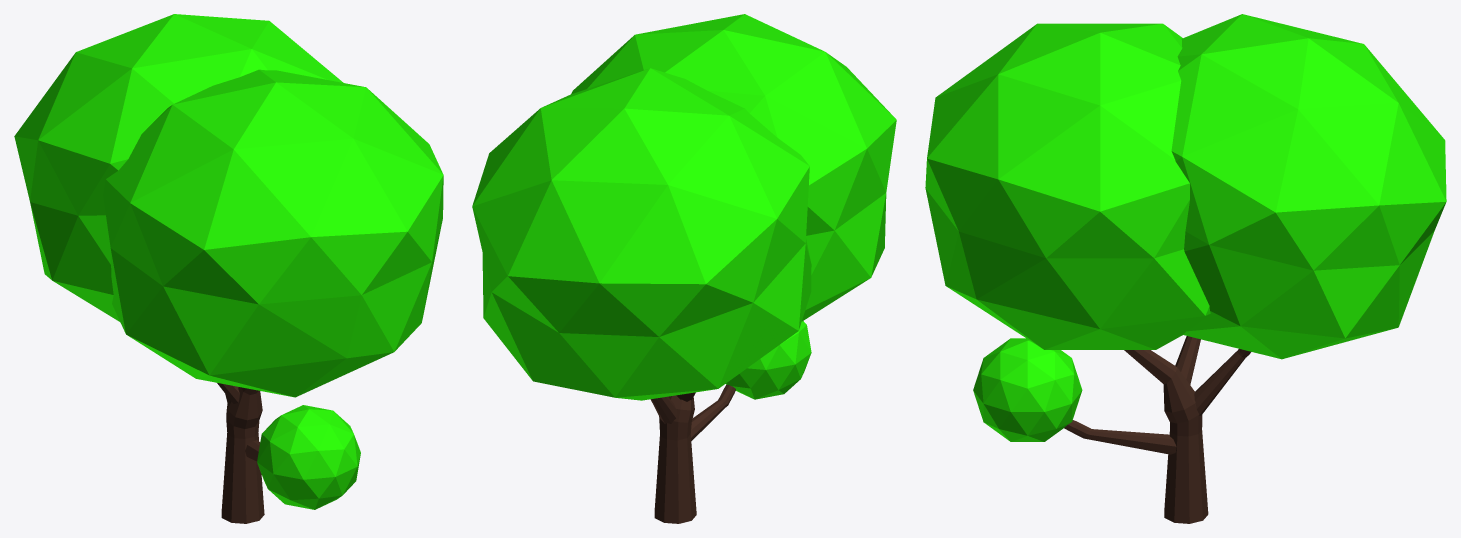
File: Árvore 2.0 1.fbx
3 renders of one model, left to right at view 1: azimuth 30°, elevation 25°; view 2: azimuth 150°, elevation 25°; view 3: azimuth 270°, elevation 25°, orthographic. The views are drawn at different scales.
Parts seen in each view (by area): view 1: Icosphere.001, Cylinder; view 2: Icosphere.001, Cylinder; view 3: Icosphere.001, Cylinder.
Boxes of the visible parts, x1,y1,x2,y2 form: Icosphere.001: (14,14,443,509); Cylinder: (217,383,264,523); Icosphere.001: (472,14,896,400); Cylinder: (650,384,735,523); Icosphere.001: (925,14,1446,441); Cylinder: (1064,336,1250,523).
Bounding box in the file's own units: 1583 × 2316 × 2289.
